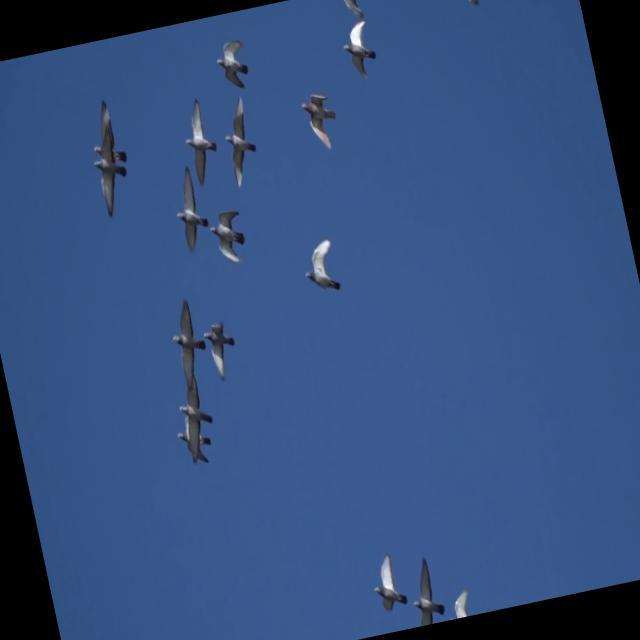bird: (83, 96, 134, 196), (85, 123, 137, 220), (163, 296, 214, 393), (172, 369, 222, 465), (216, 93, 264, 190), (175, 94, 224, 188), (165, 161, 214, 255), (402, 551, 448, 627), (298, 88, 343, 155), (337, 18, 381, 84), (205, 207, 251, 270), (172, 407, 217, 471), (367, 549, 410, 615), (201, 319, 243, 385), (298, 237, 343, 297), (211, 36, 254, 94), (340, 0, 374, 22)
